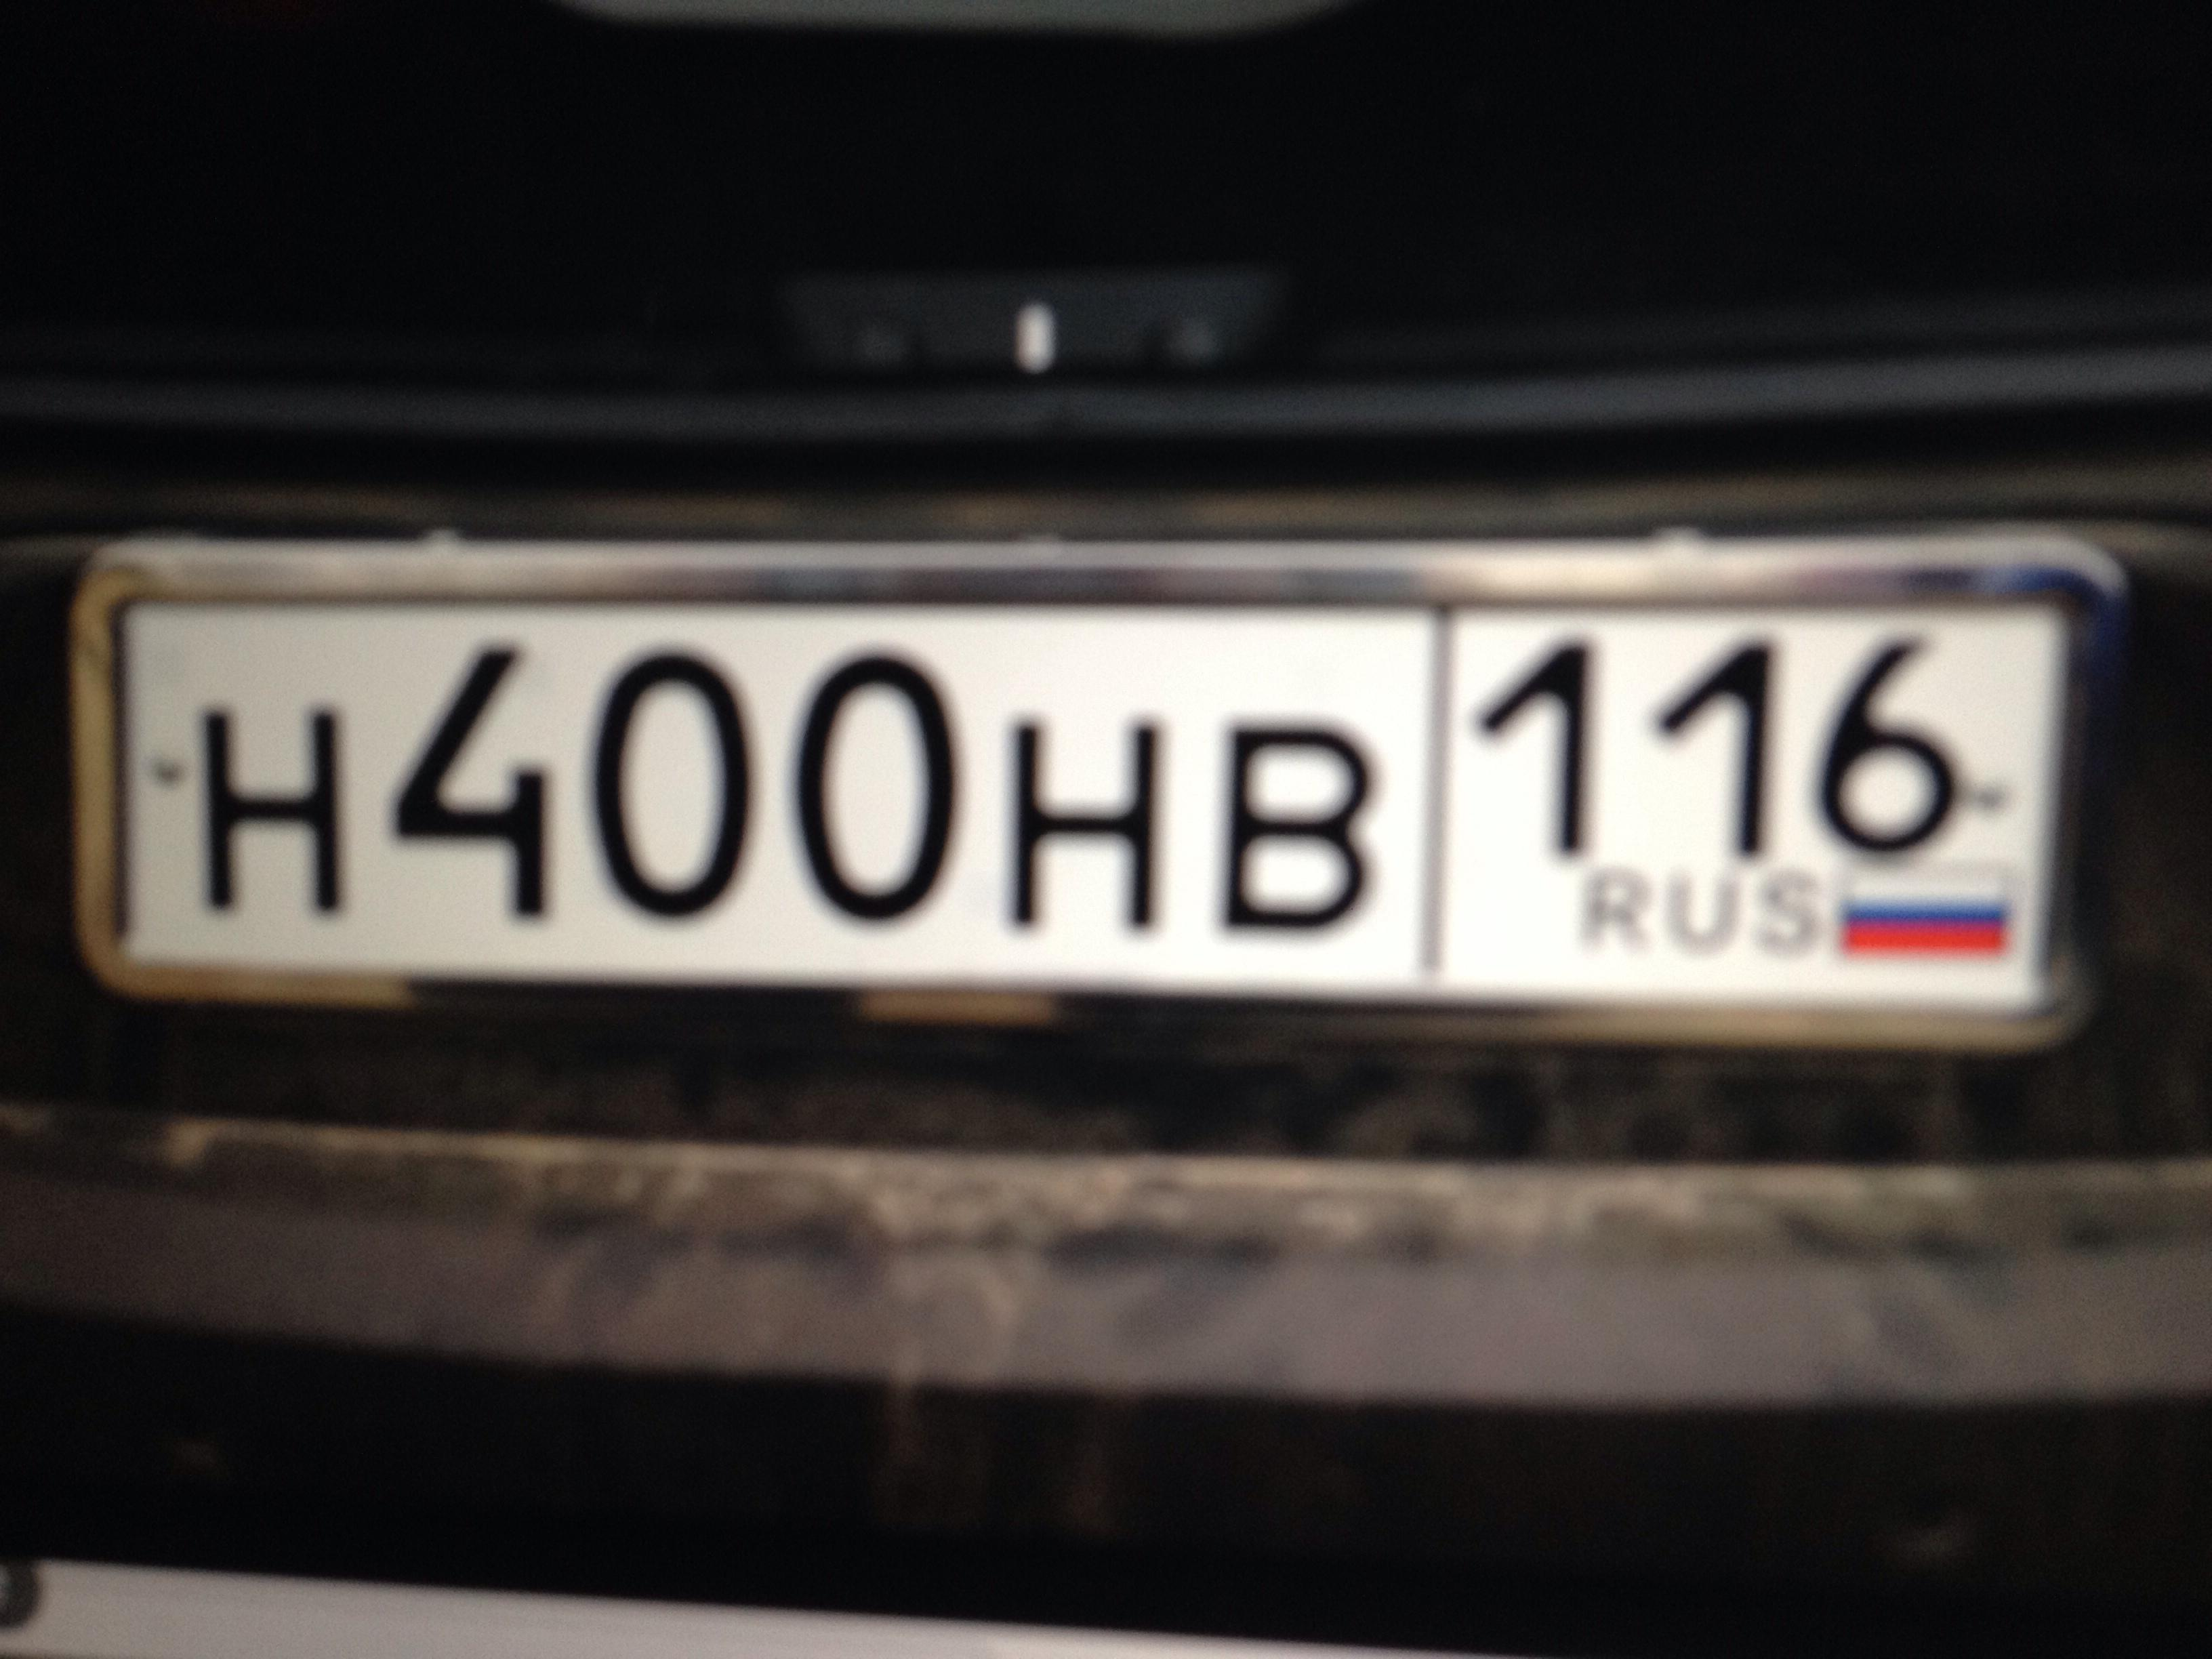license-plateSW: (98, 590, 2073, 1008)
